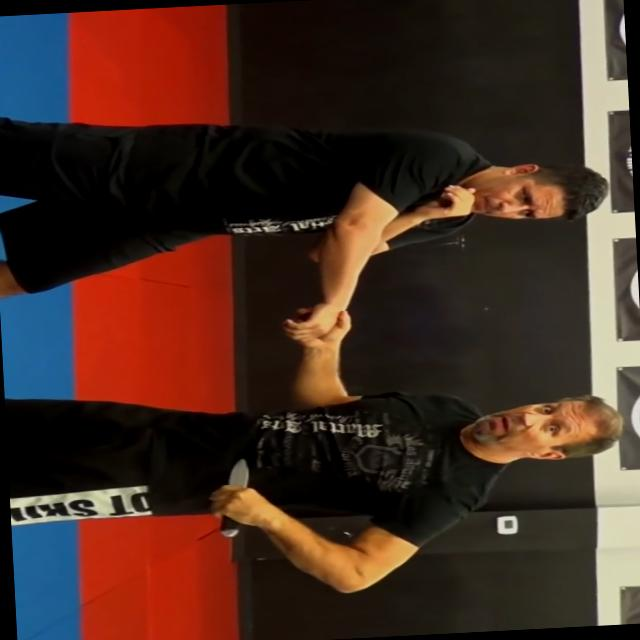knife: (200, 454, 260, 544)
